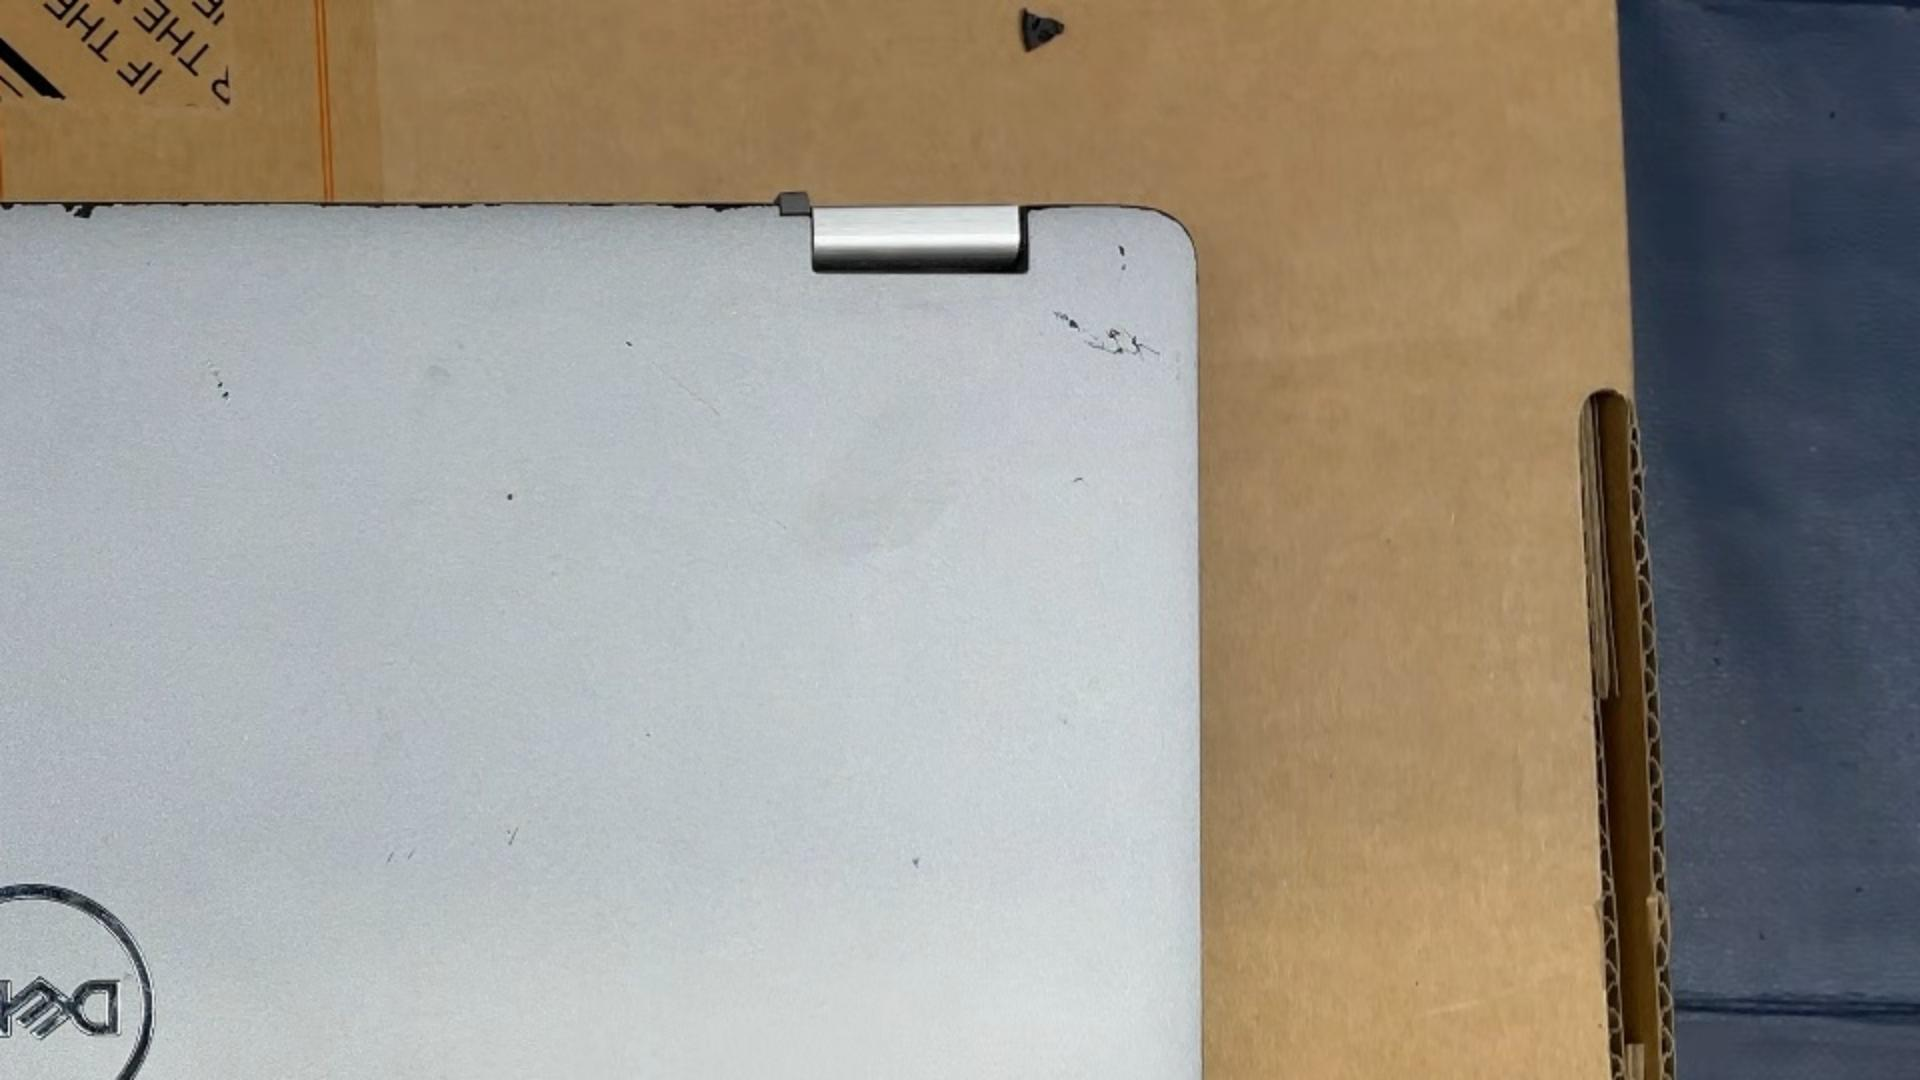chip: (313, 202, 476, 210), (654, 203, 769, 214), (58, 203, 100, 219), (505, 824, 522, 847), (0, 202, 20, 212), (1105, 328, 1124, 339), (1068, 316, 1081, 331), (384, 849, 396, 865), (405, 847, 417, 861), (220, 389, 229, 402), (506, 491, 514, 502), (216, 380, 224, 389)
scratches: (624, 340, 721, 417), (1051, 309, 1098, 342), (1083, 339, 1162, 357), (1121, 327, 1146, 364), (1113, 243, 1127, 276), (1071, 476, 1085, 485)
